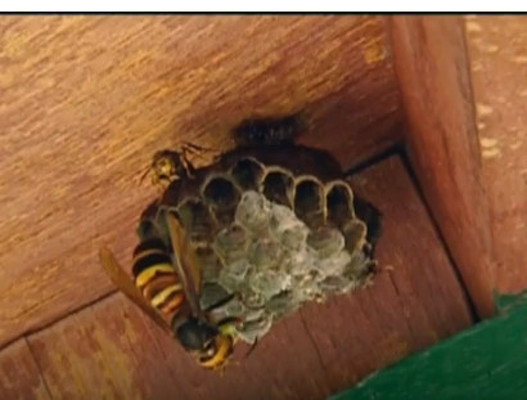asian_giant_hornet: (93, 219, 242, 374), (134, 134, 210, 186)
